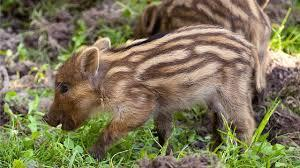wildboar: (39, 23, 264, 162)
